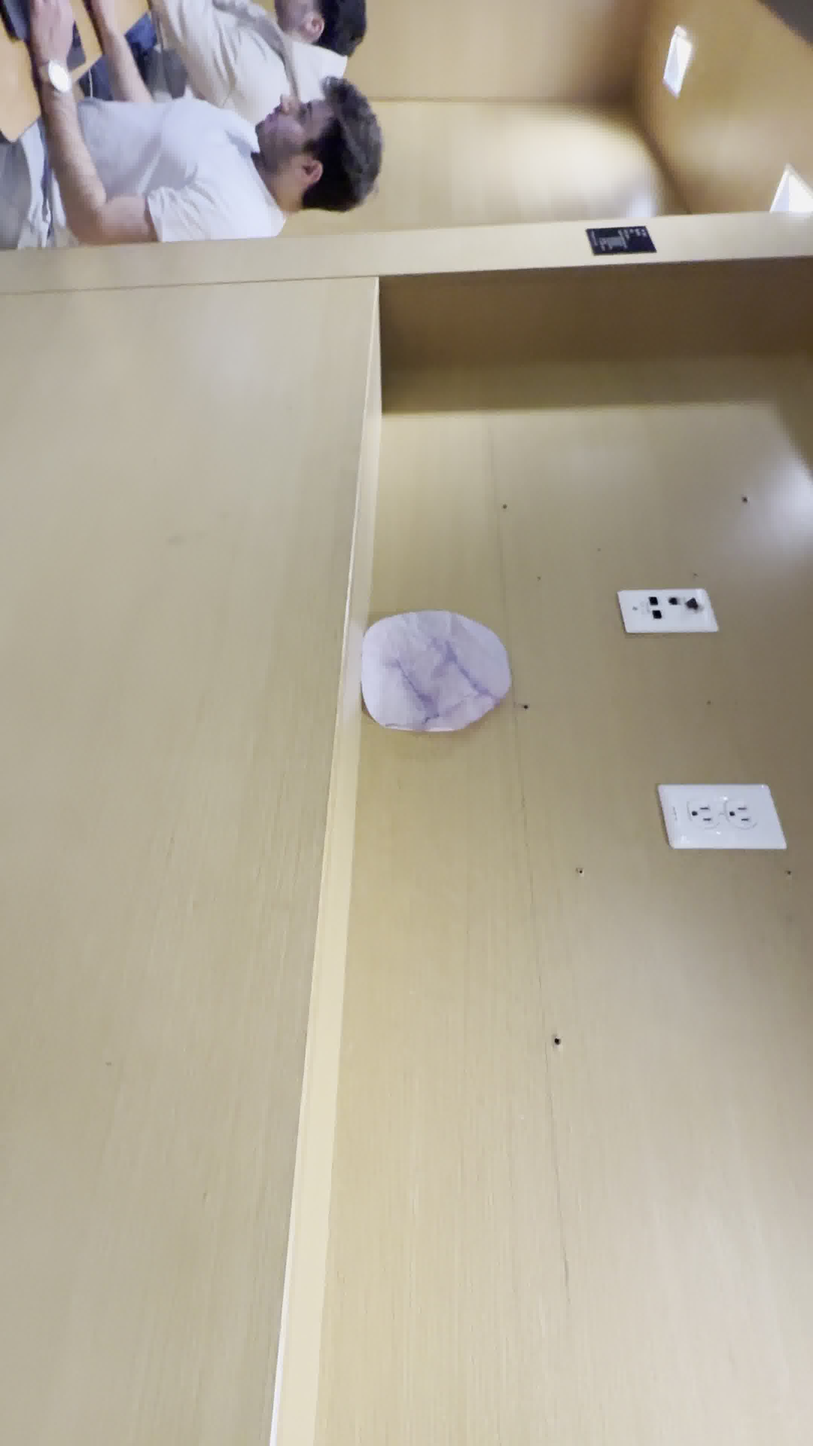Target: (360, 610, 510, 736)
